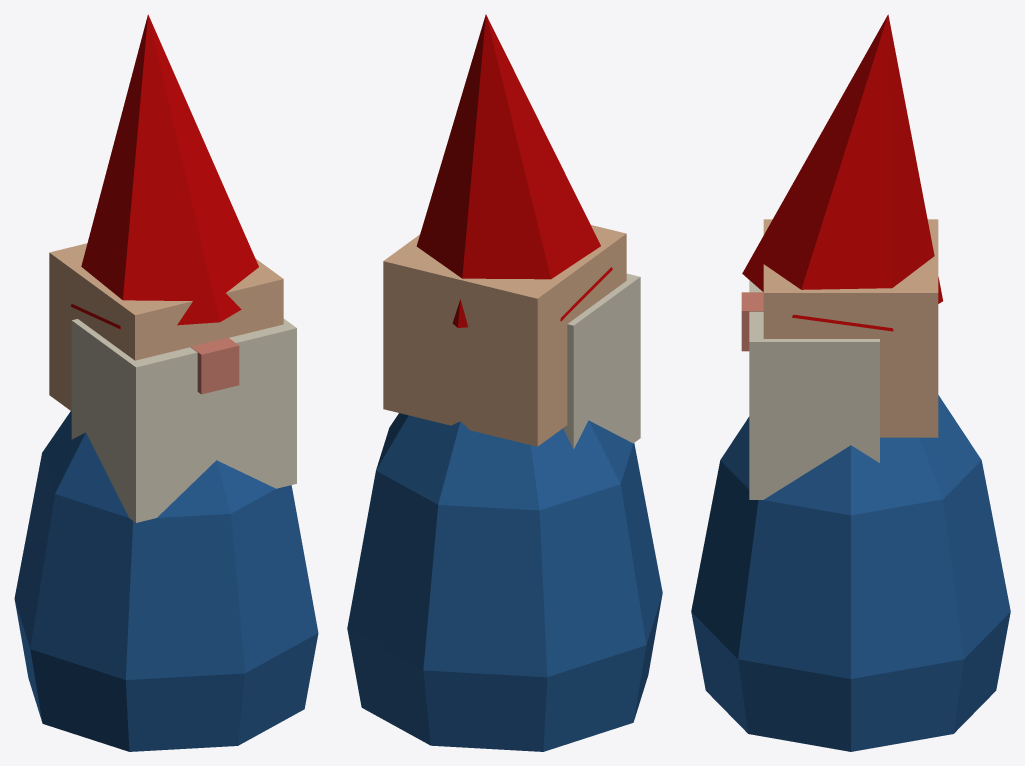
File: gnome.glb
3 renders of one model, left to right at view 1: azimuth 30°, elevation 25°; view 2: azimuth 150°, elevation 25°; view 3: azimuth 270°, elevation 25°, orthographic. The views are drawn at different scales.
Visible parts, largest first — view 1: gnome_plain; view 2: gnome_plain; view 3: gnome_plain.
Part boxes in pixels (x1,y1,x2,y2): gnome_plain: [14, 14, 318, 751]; gnome_plain: [347, 14, 662, 751]; gnome_plain: [691, 14, 1010, 751].
Bounding box in the file's own units: 0.44 × 1.03 × 0.44.
